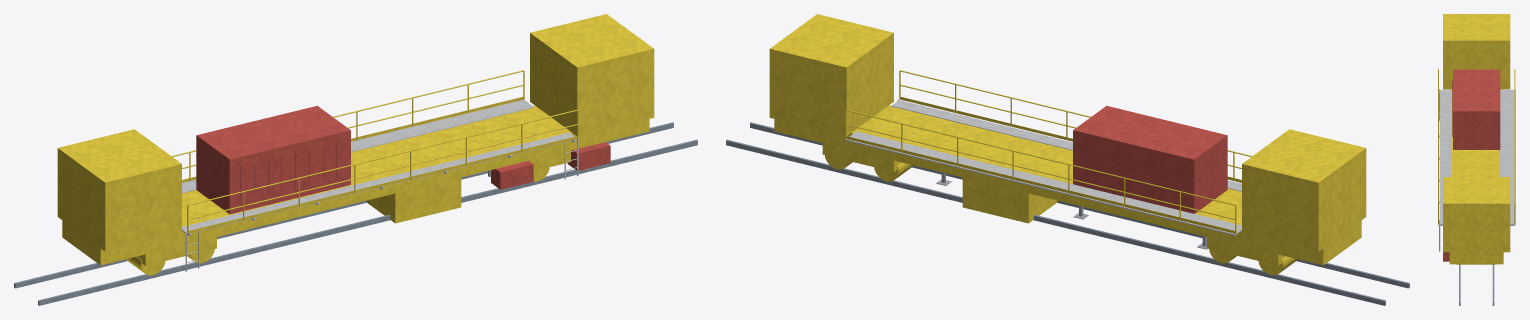
The model's file is rail-track-machine-access-and-enclosures.glb.
3 renders of one model, left to right at view 1: azimuth 30°, elevation 25°; view 2: azimuth 150°, elevation 25°; view 3: azimuth 270°, elevation 25°, orthographic. The views are drawn at different scales.
Parts seen in each view (by area): view 1: TrackMachine(context), EngineEnclosure, Handrails, SideWalkways, Track(context), Battery&ToolBoxes; view 2: TrackMachine(context), EngineEnclosure, SideWalkways, Track(context), Handrails; view 3: TrackMachine(context), EngineEnclosure, SideWalkways, Handrails, Track(context), AccessLadders, Battery&ToolBoxes.
Boxes of the visible parts, box(x1,y1,x2,y2) form: TrackMachine(context): box(57, 14, 654, 275); EngineEnclosure: box(196, 105, 350, 214); Handrails: box(171, 70, 578, 234); SideWalkways: box(182, 99, 576, 236); Track(context): box(14, 122, 697, 305); Battery&ToolBoxes: box(491, 142, 610, 189); TrackMachine(context): box(769, 14, 1366, 275); EngineEnclosure: box(1073, 105, 1227, 213); SideWalkways: box(845, 100, 1241, 236); Track(context): box(726, 122, 1409, 305); Handrails: box(845, 70, 1252, 234); TrackMachine(context): box(1443, 14, 1510, 264); EngineEnclosure: box(1452, 69, 1500, 149); SideWalkways: box(1438, 89, 1515, 225); Handrails: box(1438, 69, 1515, 224); Track(context): box(1459, 264, 1494, 305); AccessLadders: box(1439, 89, 1440, 251); Battery&ToolBoxes: box(1443, 252, 1449, 261).
Bounding box in the file's own units: 24 × 4.11 × 3.47.
Materials: 7 (7 with a texture image).
